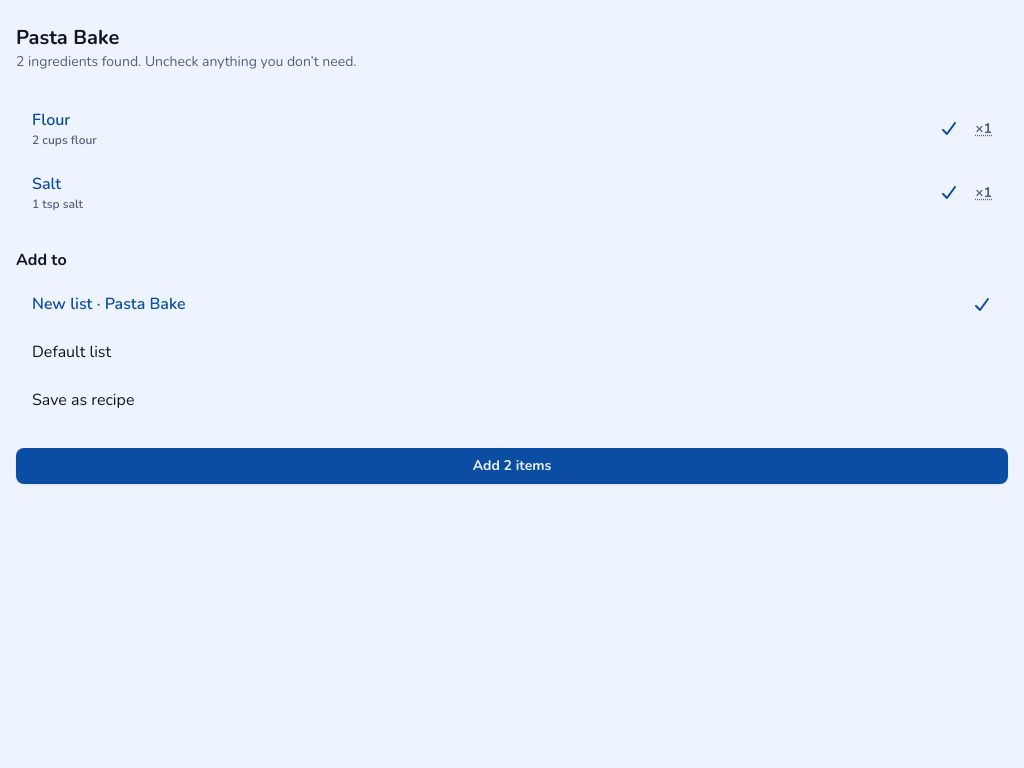
Test case: RecipeImporter › saves a recipe (parser-prefilled quantities) and navigates to its detail
Later steps or results of the test are not shown.
What coordinates should you click on to do the following:
click the button "Save as recipe"
I would click on:
 (83, 400)
Its box is [16, 376, 1008, 424].
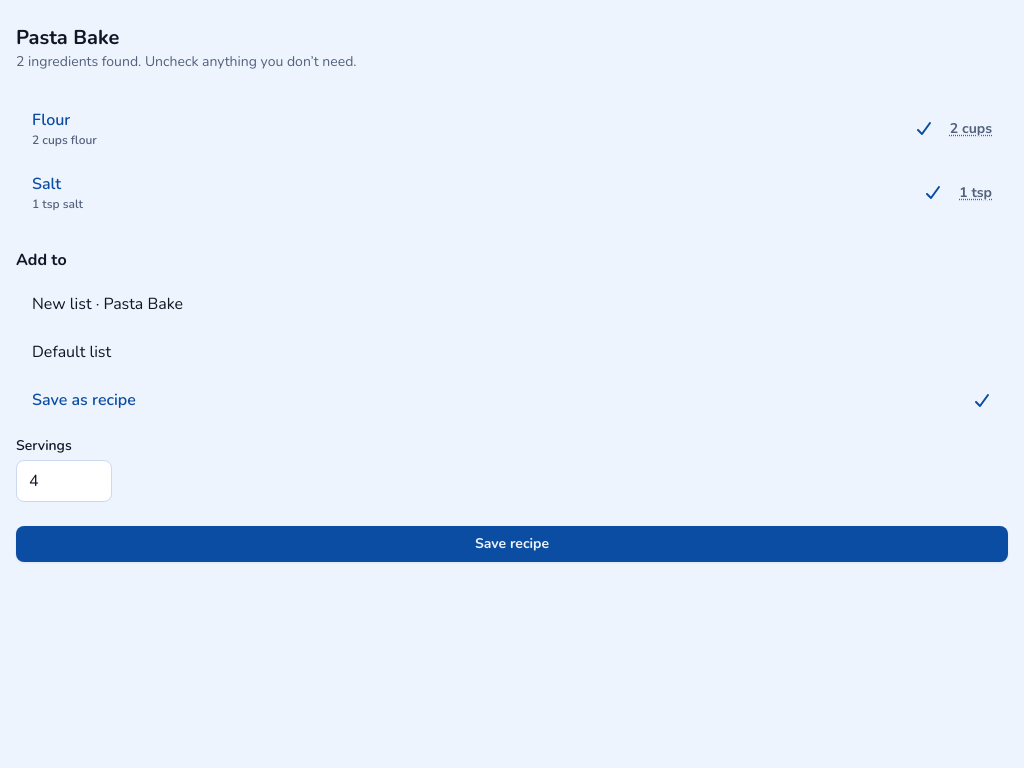
Check: the number field labelled "Servings" holds "4", box [16, 460, 112, 502]
